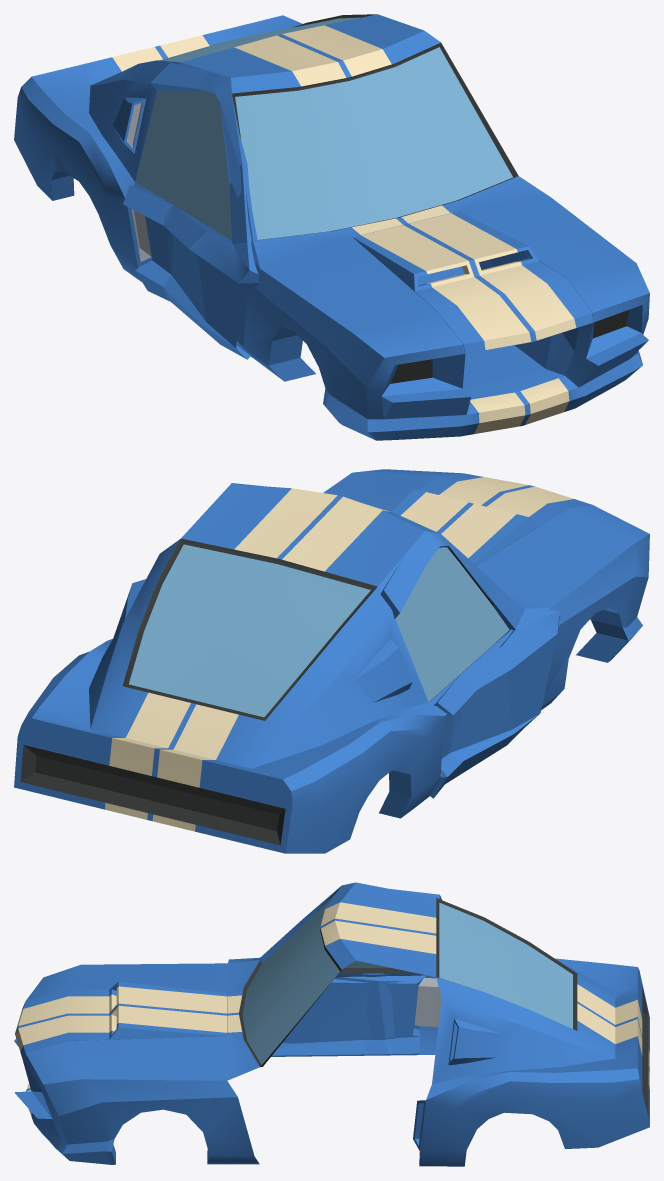
Rendered from macchina_blu.fbx.
3 renders of one model, top to bottom at view 1: azimuth 30°, elevation 25°; view 2: azimuth 150°, elevation 25°; view 3: azimuth 270°, elevation 25°, orthographic. The views are drawn at different scales.
Parts seen in each view (by area): view 1: scocca_1, cofano_1, porta_rotta_1, porta_nuova_1; view 2: scocca_1, porta_rotta_1, porta_nuova_1, cofano_1; view 3: scocca_1, cofano_1, porta_nuova_1, porta_rotta_1.
Part boxes in pixels (x1,y1,x2,y2): scocca_1: (14, 14, 649, 440); cofano_1: (353, 211, 593, 353); porta_rotta_1: (123, 62, 259, 359); porta_nuova_1: (133, 62, 259, 357); scocca_1: (14, 469, 649, 853); porta_rotta_1: (380, 531, 560, 798); porta_nuova_1: (378, 531, 551, 797); cofano_1: (391, 473, 591, 565); scocca_1: (14, 882, 649, 1166); cofano_1: (15, 981, 226, 1059); porta_nuova_1: (260, 935, 425, 1056); porta_rotta_1: (228, 887, 441, 1055).
Size of the model in its own units: 207 by 141 by 424.
